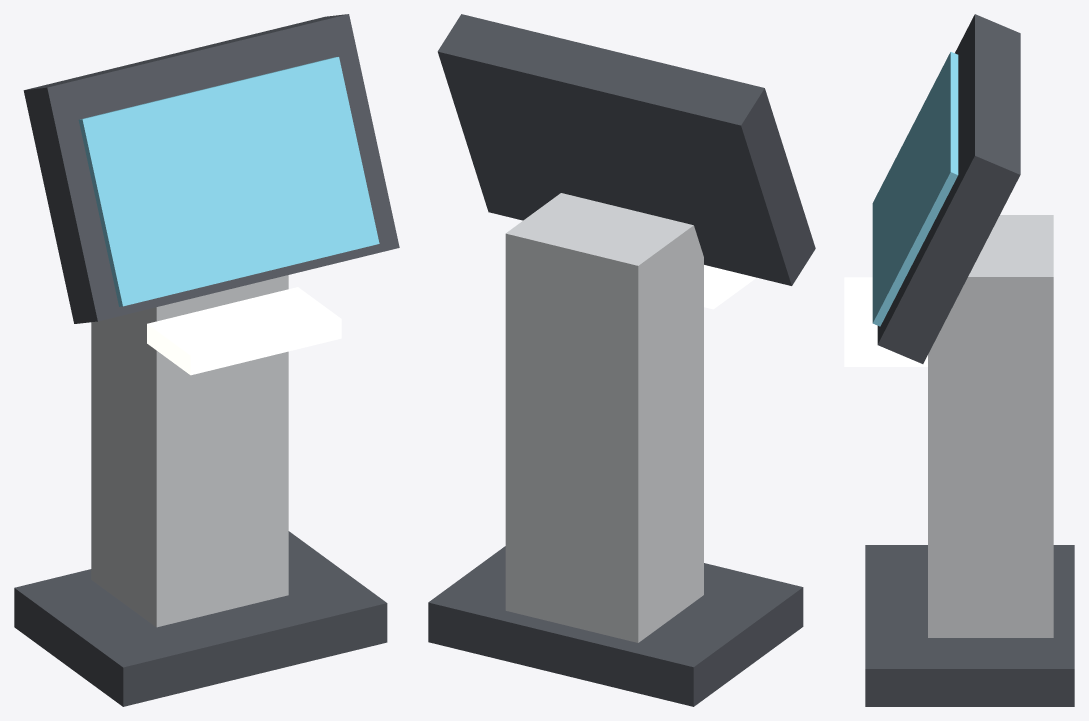
Rendered from terminal.fbx.
The picture shows the model from 3 angles, left to right: view 1: azimuth 30°, elevation 25°; view 2: azimuth 150°, elevation 25°; view 3: azimuth 270°, elevation 25°; orthographic projection. The views are drawn at different scales.
Visible parts, largest first — view 1: Body; view 2: Body; view 3: Body.
Boxes of the visible parts, x1,y1,x2,y2 form: Body: (14,14,399,706); Body: (428,14,815,706); Body: (844,14,1074,706).
Size of the model in its own units: 0.8 by 1.47 by 0.55.
